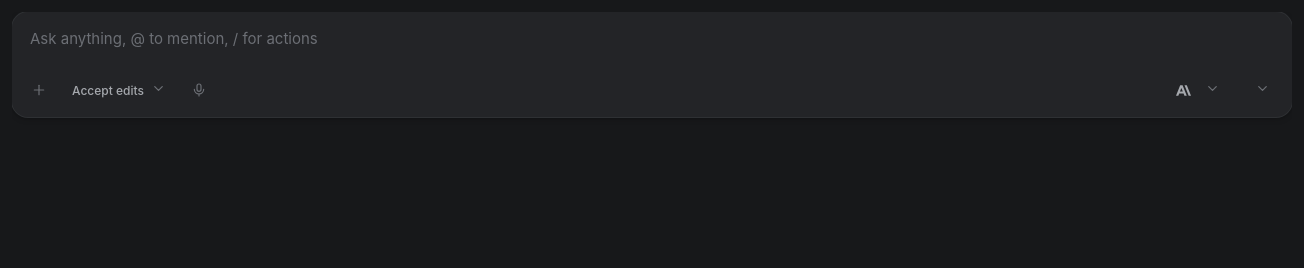
Test case: Composer attachments › renders a non-image attachment as a colored type-badge+name pill and no <img>
The width and height of the screenshot is (1304, 268).
Click the button named "Add context": (39, 90) [24,75,54,105]
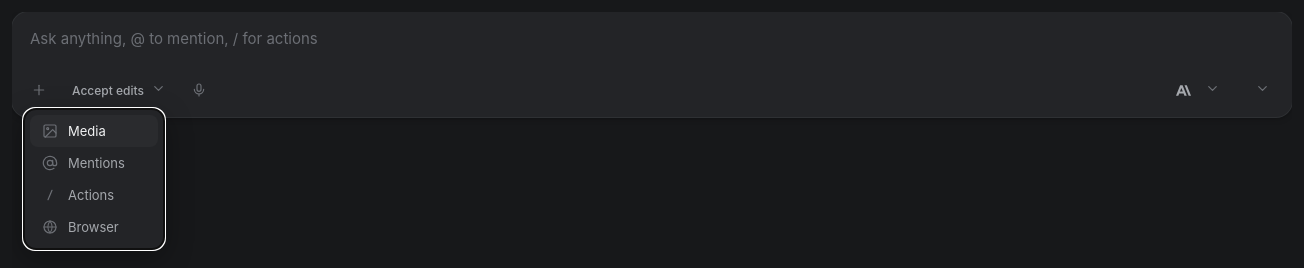
Click the text "Media": (87, 131) [68,123,106,139]
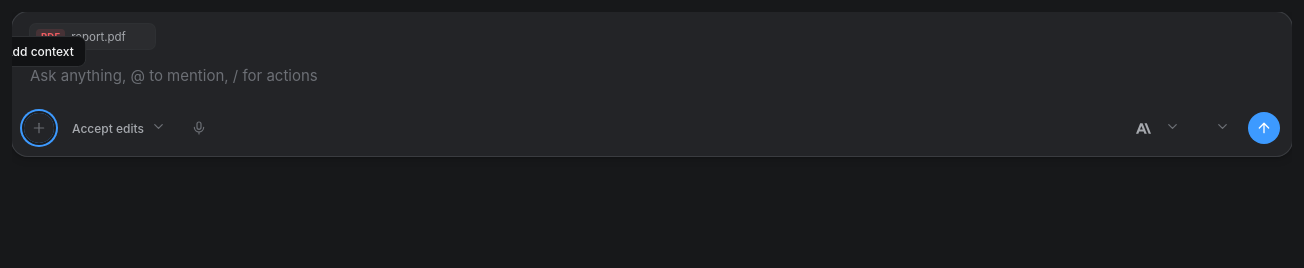
Expected: the text "report.pdf" is shown, [71,30,126,44]
Expected: the text with class "attachment-type-badge" reads "PDF", [41,31,60,42]
Expected: the text "PDF" is shown, [36,29,65,44]
